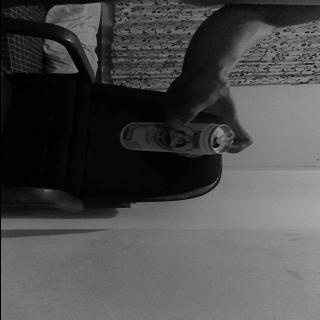alumunium_can: (117, 120, 233, 154)
